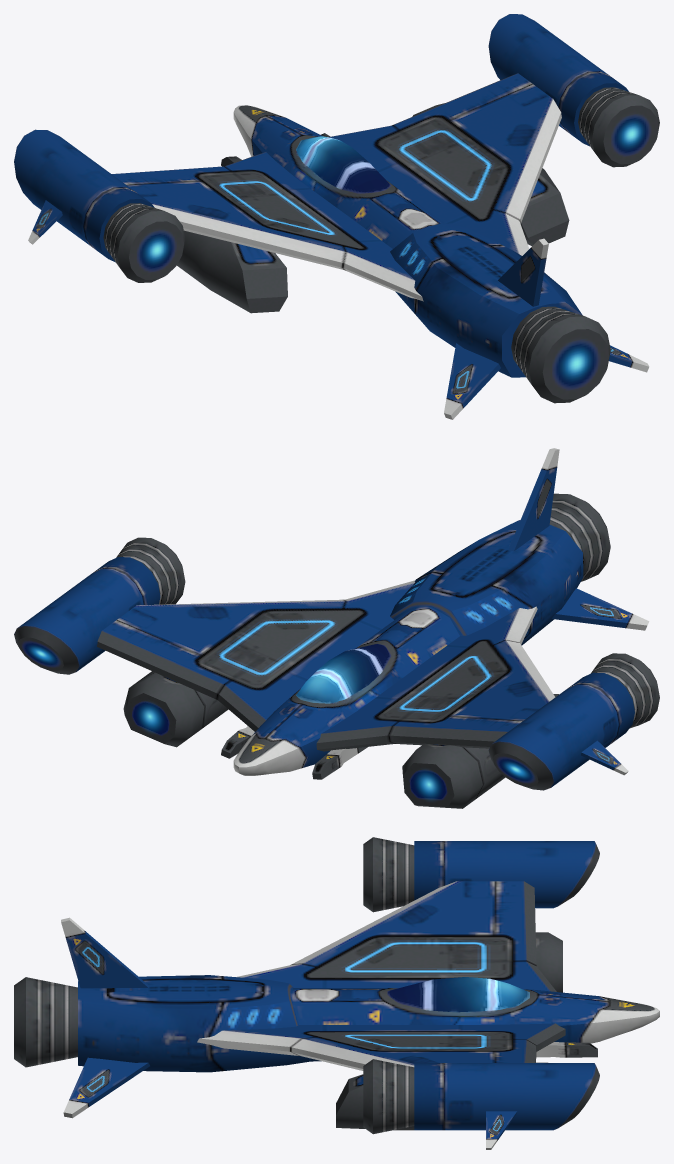
File: defender1.gltf
3 views of the same model, one above another, from view 1: azimuth 30°, elevation 25°; view 2: azimuth 150°, elevation 25°; view 3: azimuth 270°, elevation 25° (orthographic). The views are drawn at different scales.
Visible parts, largest first — view 1: defender1; view 2: defender1; view 3: defender1.
Part boxes in pixels (x1,y1,x2,y2): defender1: (14, 14, 659, 419); defender1: (14, 448, 659, 808); defender1: (14, 837, 659, 1149).
Bounding box in the file's own units: 11.12 × 2.78 × 10.85.
Materials: 1 (1 with a texture image).
